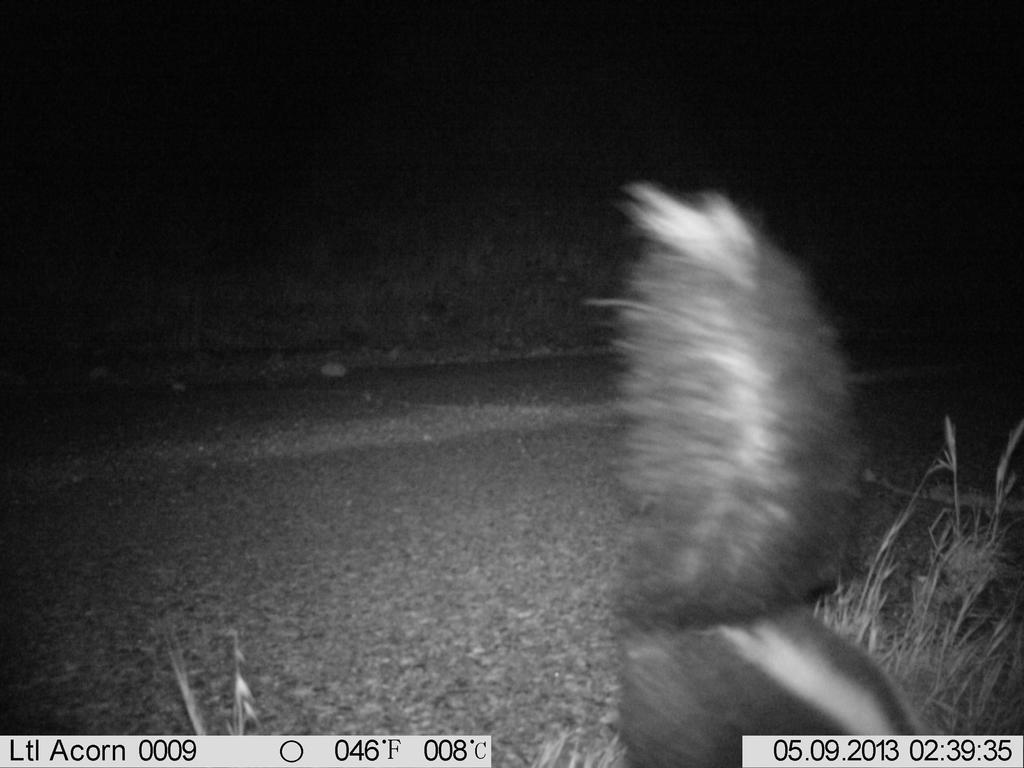skunk: (598, 154, 936, 738)
